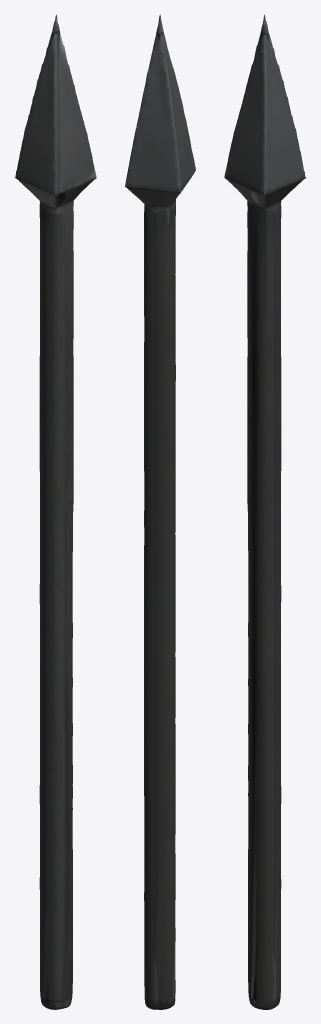
The model's file is Spike.fbx.
3 renders of one model, left to right at view 1: azimuth 90°, elevation 25°; view 2: azimuth 210°, elevation 25°; view 3: azimuth 270°, elevation 25°, orthographic.
Visible parts, largest first — view 1: Mesh_0; view 2: Mesh_0; view 3: Mesh_0.
Boxes of the visible parts, x1=… form: Mesh_0: x1=14, y1=14, x2=96, y2=1009; Mesh_0: x1=125, y1=14, x2=195, y2=1009; Mesh_0: x1=224, y1=14, x2=305, y2=1009.
Bounding box in the file's own units: 14.77 × 200 × 14.99.
Materials: 1 (1 with a texture image).
